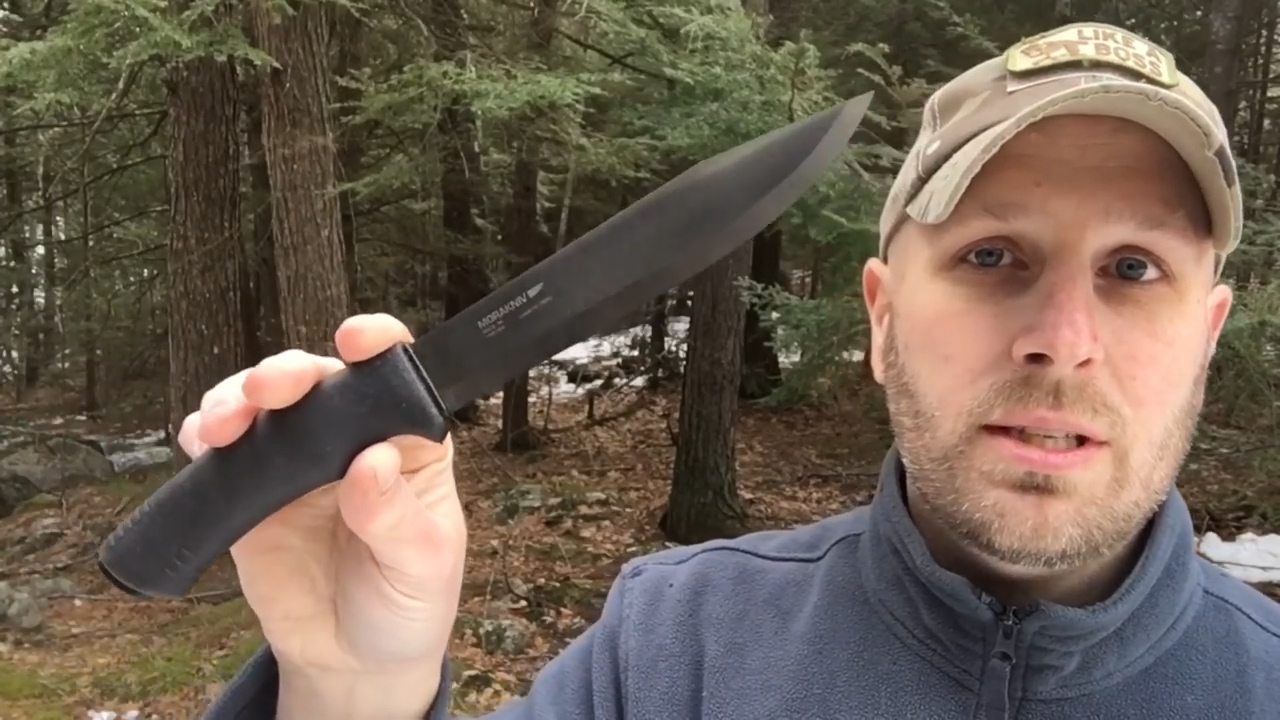knife: (289, 81, 885, 527)
